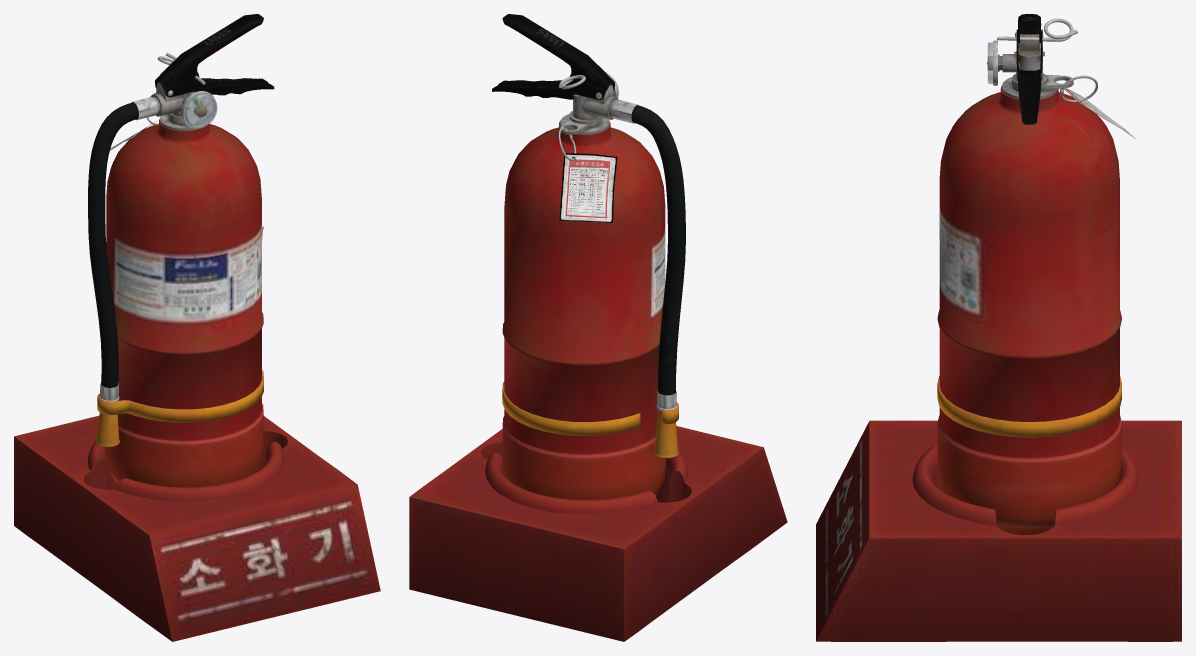
The model's file is fire_extinguisher.glb.
3 renders of one model, left to right at view 1: azimuth 30°, elevation 25°; view 2: azimuth 150°, elevation 25°; view 3: azimuth 270°, elevation 25°, orthographic. The views are drawn at different scales.
Parts seen in each view (by area): view 1: korean_fire_extinguisher_01; view 2: korean_fire_extinguisher_01; view 3: korean_fire_extinguisher_01.
Part boxes in pixels (x1=…): korean_fire_extinguisher_01: x1=14, y1=14, x2=380, y2=641; korean_fire_extinguisher_01: x1=409, y1=14, x2=787, y2=641; korean_fire_extinguisher_01: x1=816, y1=14, x2=1181, y2=641.
Size of the model in its own units: 0.2799 by 0.6593 by 0.3674.
Materials: 3 (3 with a texture image).
